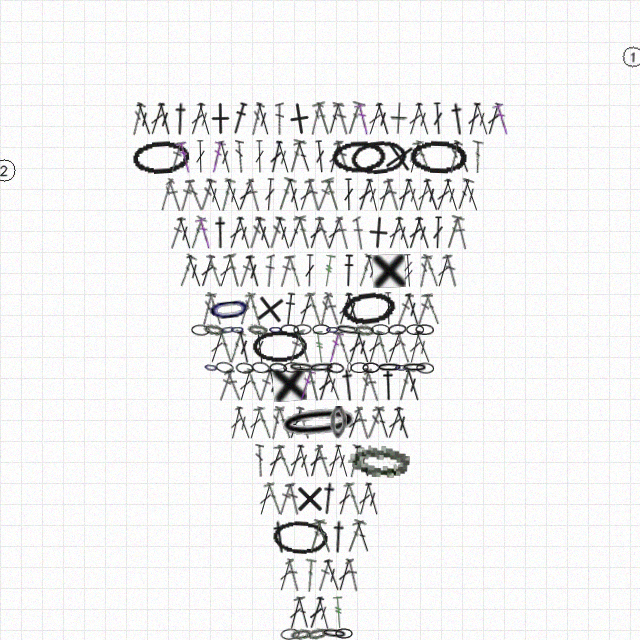chain: (276, 403, 361, 443), (349, 138, 409, 176), (340, 289, 398, 328), (348, 443, 410, 478), (131, 139, 190, 175), (409, 139, 467, 174), (272, 519, 328, 555), (331, 140, 387, 174), (252, 330, 308, 363), (205, 290, 254, 327), (330, 406, 347, 439), (334, 323, 362, 337), (320, 627, 348, 640), (288, 361, 315, 374), (308, 361, 335, 374), (306, 626, 328, 640), (376, 362, 403, 373), (401, 362, 428, 373), (290, 627, 311, 640), (203, 323, 224, 336), (247, 323, 268, 336), (387, 323, 407, 336), (215, 361, 234, 374), (251, 361, 270, 374), (280, 628, 300, 640), (354, 324, 374, 336), (235, 362, 254, 374), (326, 362, 345, 374), (191, 324, 210, 336), (269, 362, 287, 374), (416, 362, 434, 374), (350, 362, 369, 373), (280, 324, 299, 335), (293, 324, 312, 335), (312, 324, 331, 335), (371, 324, 390, 335), (415, 324, 434, 335), (203, 361, 219, 374), (220, 323, 236, 336), (335, 628, 353, 639), (283, 362, 301, 373), (362, 362, 380, 373), (406, 324, 424, 335), (394, 362, 409, 373), (230, 324, 245, 335), (268, 324, 283, 335), (325, 324, 340, 335), (347, 362, 352, 373)
double: (312, 519, 336, 554), (343, 519, 367, 554), (292, 329, 315, 364), (175, 253, 198, 288), (284, 215, 307, 250), (442, 215, 465, 250), (274, 177, 297, 212), (321, 177, 344, 212), (312, 101, 335, 136), (343, 101, 366, 136), (305, 519, 327, 554), (352, 519, 374, 554), (273, 443, 295, 478), (253, 405, 275, 440), (372, 405, 394, 440), (243, 367, 265, 402), (394, 367, 416, 402), (225, 329, 247, 364), (421, 291, 443, 326), (223, 253, 245, 288), (354, 253, 376, 288), (186, 215, 208, 250), (293, 215, 315, 250), (453, 177, 475, 212), (285, 139, 307, 174), (293, 139, 315, 174), (412, 139, 434, 174), (322, 368, 344, 402), (412, 330, 434, 364), (451, 140, 473, 174), (293, 595, 314, 630), (263, 481, 284, 516), (273, 405, 294, 440), (303, 367, 324, 402), (421, 253, 442, 288), (324, 101, 345, 136), (322, 558, 343, 592), (265, 444, 286, 478), (233, 406, 254, 440), (344, 406, 365, 440), (364, 406, 385, 440), (384, 406, 405, 440), (392, 406, 413, 440), (384, 330, 405, 364), (184, 254, 205, 288), (253, 216, 274, 250), (324, 216, 345, 250), (204, 178, 225, 212), (223, 178, 244, 212), (235, 178, 256, 212), (421, 178, 442, 212), (433, 178, 454, 212), (461, 178, 482, 212), (134, 102, 155, 136), (343, 481, 363, 516), (215, 329, 235, 364), (333, 329, 353, 364), (205, 291, 225, 326), (304, 291, 324, 326), (284, 253, 304, 288), (216, 177, 236, 212), (223, 368, 244, 401), (306, 596, 326, 630), (286, 444, 306, 478), (353, 444, 373, 478), (286, 406, 306, 440), (296, 368, 316, 402), (315, 368, 335, 402), (403, 368, 423, 402), (207, 330, 227, 364), (345, 330, 365, 364), (353, 330, 373, 364), (244, 292, 264, 326), (296, 292, 316, 326), (335, 292, 355, 326), (403, 292, 423, 326), (197, 254, 217, 288), (216, 254, 236, 288), (175, 216, 195, 250), (226, 216, 246, 250), (234, 216, 254, 250), (246, 216, 266, 250), (266, 216, 286, 250), (274, 216, 294, 250), (306, 216, 326, 250), (385, 216, 405, 250), (393, 216, 413, 250), (405, 216, 425, 250), (413, 216, 433, 250), (197, 178, 217, 212), (296, 178, 316, 212), (304, 178, 324, 212), (355, 178, 375, 212), (375, 178, 395, 212), (383, 178, 403, 212), (403, 178, 423, 212), (442, 178, 462, 212), (333, 140, 353, 174), (147, 102, 167, 136), (187, 102, 207, 136), (365, 102, 385, 136), (373, 102, 393, 136), (405, 102, 425, 136), (413, 102, 433, 136), (472, 102, 492, 136), (492, 102, 512, 136), (286, 596, 305, 630), (314, 596, 333, 630), (276, 558, 295, 592), (335, 558, 354, 592), (256, 482, 275, 516), (335, 482, 354, 516), (355, 482, 374, 516), (363, 482, 382, 516), (306, 444, 325, 478), (314, 444, 333, 478), (325, 444, 344, 478), (333, 444, 352, 478), (345, 444, 364, 478), (246, 406, 265, 440), (236, 368, 255, 402), (363, 368, 382, 402), (325, 330, 344, 364), (365, 330, 384, 364), (373, 330, 392, 364), (323, 292, 342, 326), (343, 292, 362, 326), (395, 292, 414, 326), (244, 254, 263, 288), (363, 254, 382, 288), (434, 254, 453, 288), (442, 254, 461, 288), (195, 216, 214, 250), (165, 178, 184, 212), (185, 178, 204, 212), (315, 178, 334, 212), (395, 178, 414, 212), (414, 178, 433, 212), (175, 140, 194, 174), (274, 140, 293, 174), (195, 102, 214, 136), (254, 102, 273, 136), (333, 102, 352, 136), (484, 102, 503, 136), (285, 482, 303, 516), (295, 444, 313, 478), (227, 406, 245, 440), (354, 406, 372, 440), (217, 368, 235, 402), (265, 368, 283, 402), (235, 330, 253, 364), (406, 330, 424, 364), (198, 292, 216, 326), (415, 292, 433, 326), (237, 254, 255, 288), (168, 216, 186, 250), (334, 216, 352, 250), (245, 178, 263, 212), (285, 178, 303, 212), (364, 178, 382, 212), (208, 140, 226, 174), (216, 140, 234, 174), (267, 140, 285, 174), (326, 140, 344, 174), (406, 140, 424, 174), (445, 140, 463, 174), (128, 102, 146, 136), (156, 102, 174, 136), (247, 102, 265, 136), (354, 102, 372, 136), (237, 292, 255, 325), (285, 558, 302, 592), (316, 558, 333, 592), (277, 482, 294, 516), (267, 406, 284, 440), (257, 368, 274, 402), (287, 330, 304, 364), (316, 292, 333, 326), (415, 254, 432, 288), (315, 216, 332, 250), (453, 216, 470, 250), (178, 178, 195, 212), (168, 140, 185, 174), (465, 102, 482, 136), (206, 254, 223, 287), (158, 178, 175, 211), (345, 558, 361, 592), (357, 368, 373, 402), (278, 254, 294, 288), (395, 330, 411, 363), (308, 102, 324, 135), (302, 558, 317, 592), (296, 406, 311, 439), (253, 330, 267, 364), (352, 216, 366, 250), (313, 140, 327, 173), (263, 178, 276, 211), (471, 140, 484, 173), (432, 216, 444, 249), (432, 102, 444, 135), (383, 292, 394, 325), (304, 254, 315, 287), (343, 178, 354, 211), (195, 140, 206, 173), (254, 140, 265, 173), (265, 254, 275, 287), (255, 444, 264, 477), (235, 140, 244, 173), (275, 102, 284, 135)
half_double: (317, 481, 340, 516), (269, 520, 291, 554), (447, 102, 469, 136), (229, 101, 250, 136), (328, 520, 349, 554), (338, 368, 359, 402), (170, 102, 191, 136), (379, 368, 398, 401), (211, 216, 230, 249), (282, 292, 297, 326), (342, 254, 355, 287)
noise: (620, 44, 640, 70), (0, 157, 17, 183)
single: (380, 138, 418, 176), (281, 100, 318, 137), (252, 291, 288, 327), (272, 367, 307, 402), (361, 215, 396, 250), (372, 254, 406, 288), (293, 482, 326, 515), (204, 102, 237, 135), (390, 102, 408, 135)
treble: (312, 330, 328, 364), (321, 254, 336, 288), (332, 596, 345, 629), (402, 254, 415, 287)
